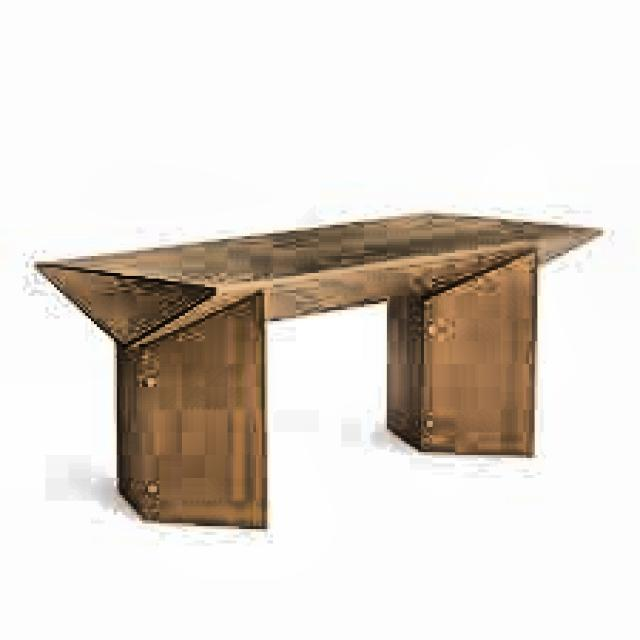cardboard: (28, 214, 604, 534)
